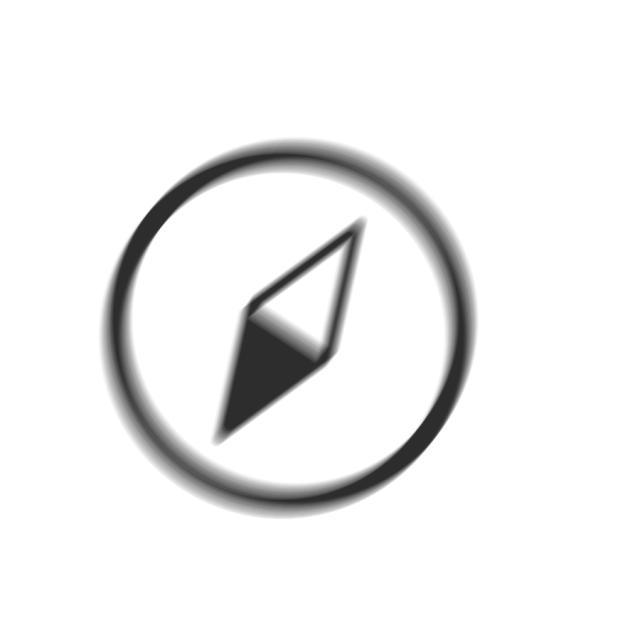compass: (94, 138, 483, 527)
